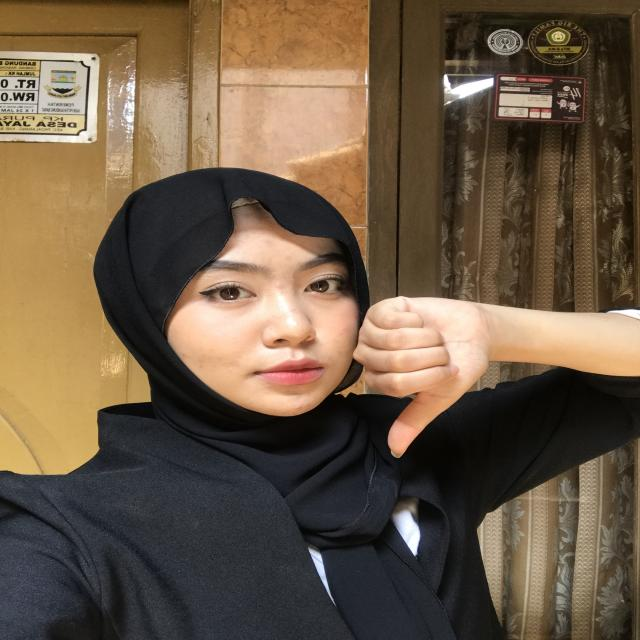sedih: (328, 280, 502, 481)
